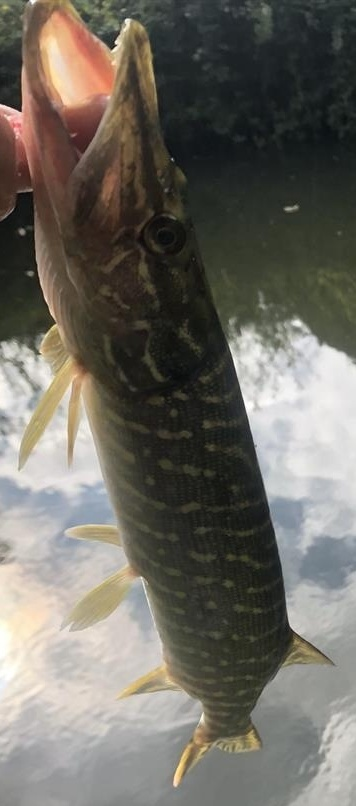Esox lucius: (20, 1, 336, 786)
